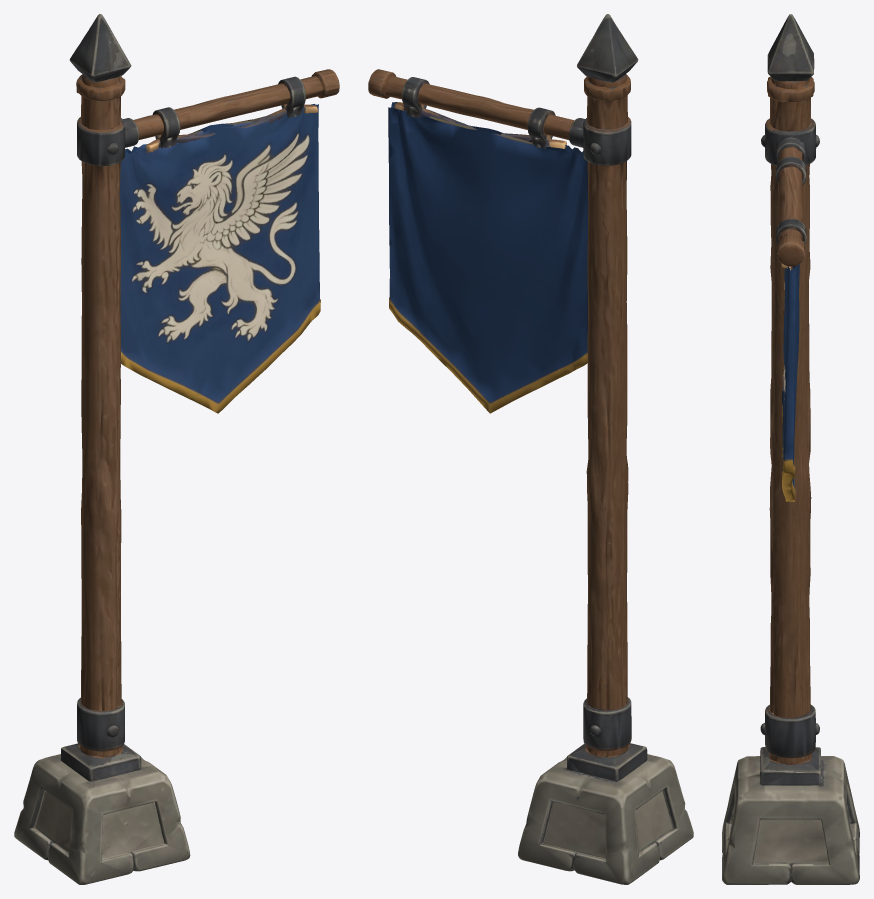
Rendered from BannerPoleGriffin.glb.
3 views of the same model, side by side, from view 1: azimuth 30°, elevation 25°; view 2: azimuth 150°, elevation 25°; view 3: azimuth 270°, elevation 25° (orthographic).
Visible parts, largest first — view 1: BannerPoleGriffin; view 2: BannerPoleGriffin; view 3: BannerPoleGriffin.
Part boxes in pixels (left/top/right/bottom): BannerPoleGriffin: left=14, top=14, right=339, bottom=884; BannerPoleGriffin: left=368, top=14, right=693, bottom=884; BannerPoleGriffin: left=722, top=14, right=859, bottom=884.
Size of the model in its own units: 1.13 by 3.12 by 0.4622.
2 materials, 2 textured.
